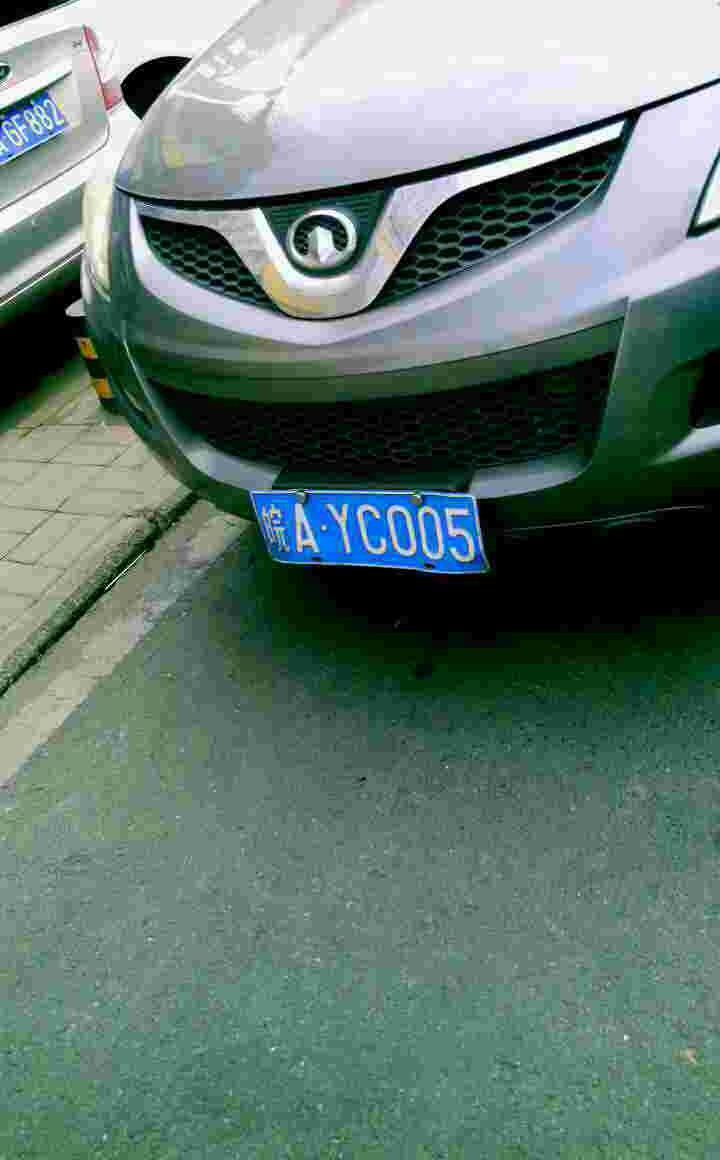license_plate: (264, 485, 487, 580)
